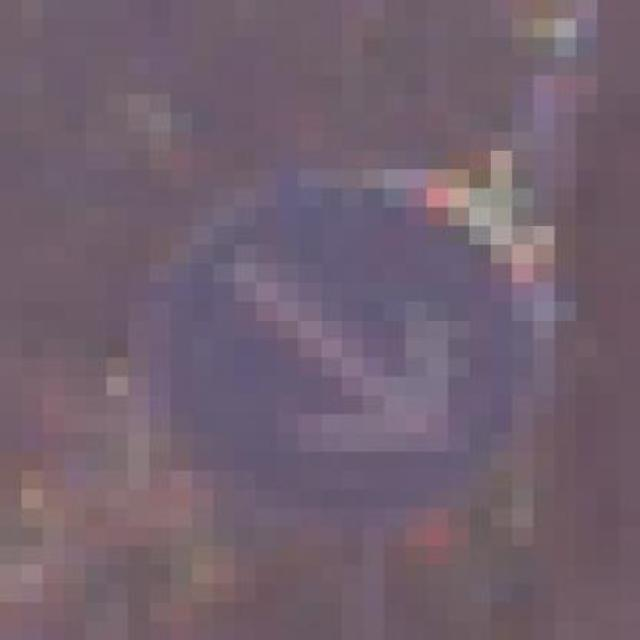Keep-Right: (107, 113, 555, 527)
